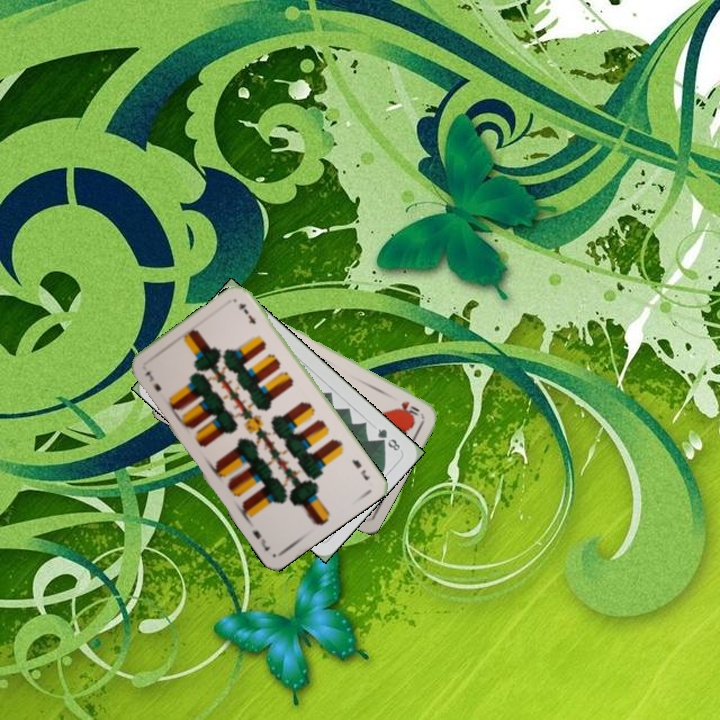E7: (348, 455, 373, 483), (141, 367, 164, 394)
G8: (373, 424, 403, 454)
HO: (397, 397, 422, 419)
